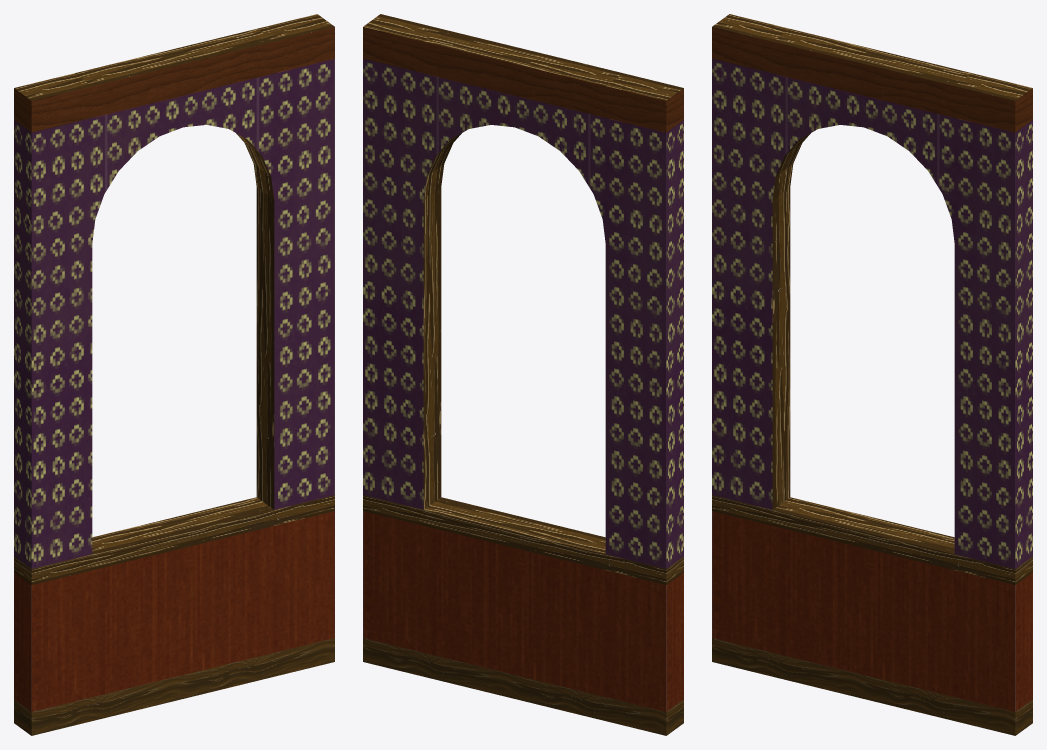
The model's file is SM_Wall_Window_Plaster.fbx.
The picture shows the model from 3 angles, left to right: view 1: azimuth 30°, elevation 25°; view 2: azimuth 150°, elevation 25°; view 3: azimuth 330°, elevation 25°; orthographic projection.
Visible parts, largest first — view 1: SM_Wall_Window_Plaster; view 2: SM_Wall_Window_Plaster; view 3: SM_Wall_Window_Plaster.
Part boxes in pixels (left/top/right/bottom): SM_Wall_Window_Plaster: left=14, top=14, right=334, bottom=735; SM_Wall_Window_Plaster: left=363, top=14, right=683, bottom=735; SM_Wall_Window_Plaster: left=712, top=14, right=1032, bottom=735.
Size of the model in its own units: 2 by 4 by 0.2.
